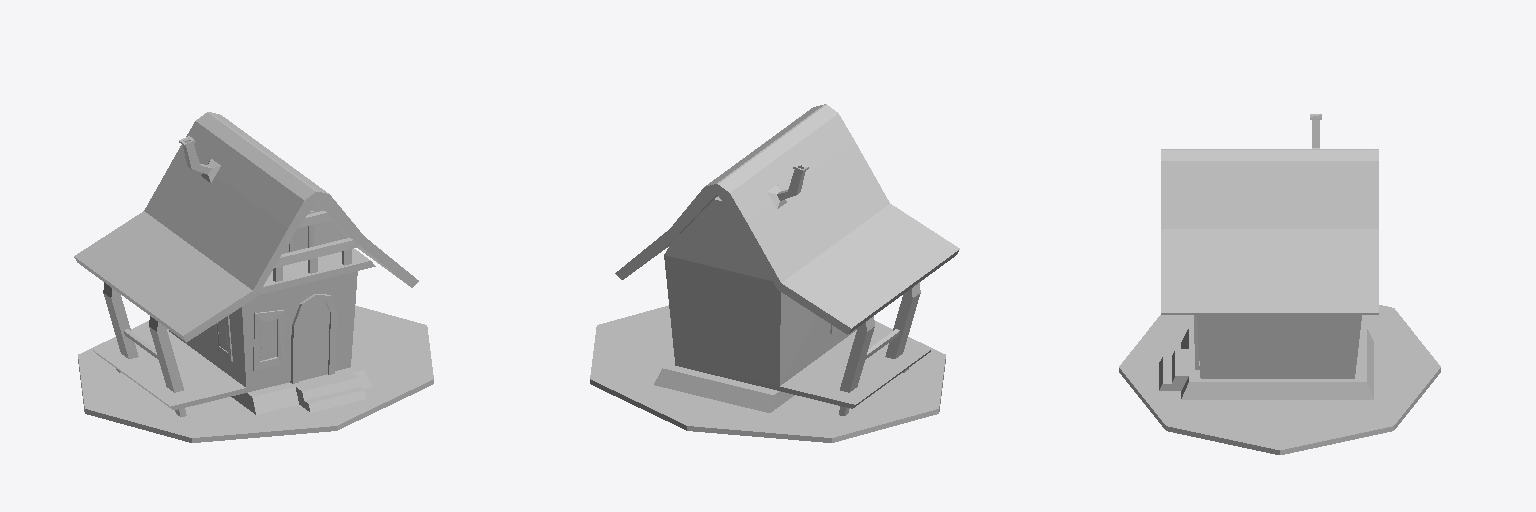
File: Haus.obj
The picture shows the model from 3 angles: view 1: azimuth 30°, elevation 25°; view 2: azimuth 150°, elevation 25°; view 3: azimuth 270°, elevation 25°; orthographic projection.
Visible parts, largest first — view 1: Haus; view 2: Haus; view 3: Haus.
Part boxes in pixels (x1,y1,x2,y2): Haus: (74,112,433,442); Haus: (590,104,959,442); Haus: (1119,114,1440,454).
Bounding box in the file's own units: 185 × 120 × 151.